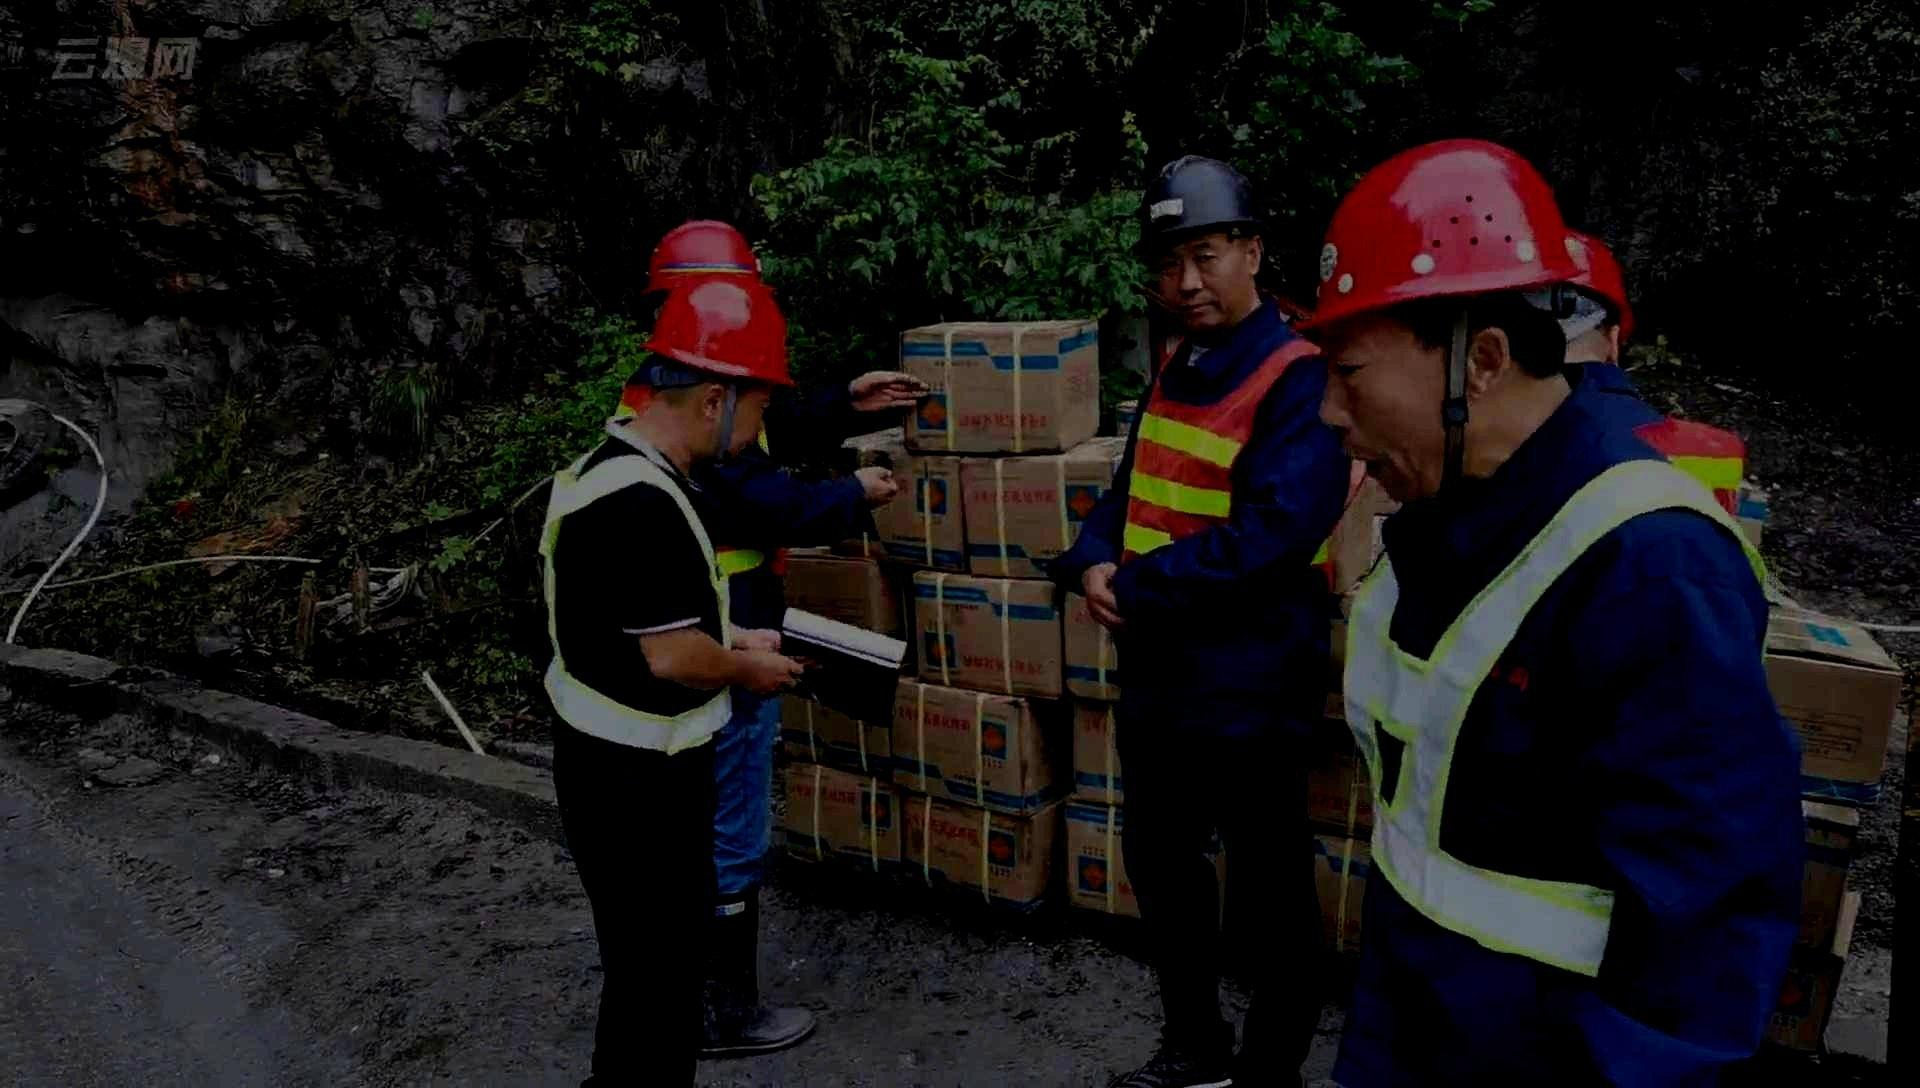helmet: (1288, 137, 1584, 510), (640, 270, 800, 459), (1130, 156, 1263, 334), (644, 219, 762, 322), (1549, 226, 1635, 368)
